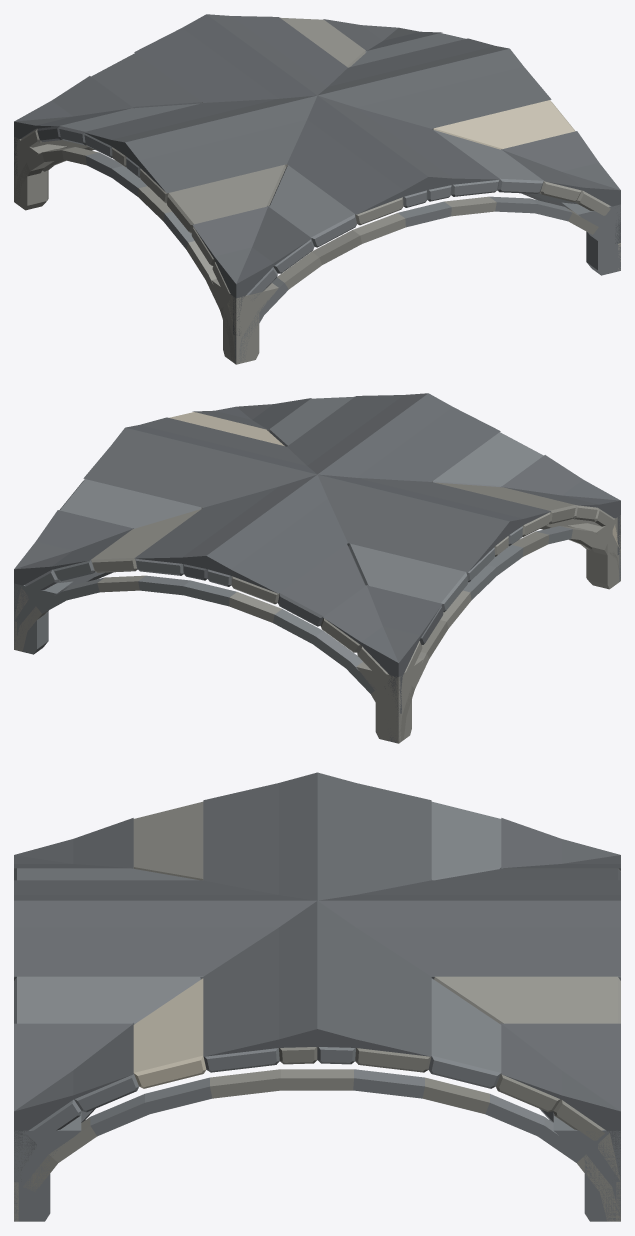
File: SM_LPD_Struct_CeilGroinRibbed_01.fbx
3 views of the same model, one above another, from view 1: azimuth 30°, elevation 25°; view 2: azimuth 150°, elevation 25°; view 3: azimuth 270°, elevation 25° (orthographic). The views are drawn at different scales.
Visible parts, largest first — view 1: SM_LPD_Struct_CeilGroinRibbed_01; view 2: SM_LPD_Struct_CeilGroinRibbed_01; view 3: SM_LPD_Struct_CeilGroinRibbed_01.
Part boxes in pixels (x1,y1,x2,y2): SM_LPD_Struct_CeilGroinRibbed_01: (14,14,620,364); SM_LPD_Struct_CeilGroinRibbed_01: (14,393,620,743); SM_LPD_Struct_CeilGroinRibbed_01: (14,772,620,1221).
Size of the model in its own units: 4 by 1.4 by 4.
